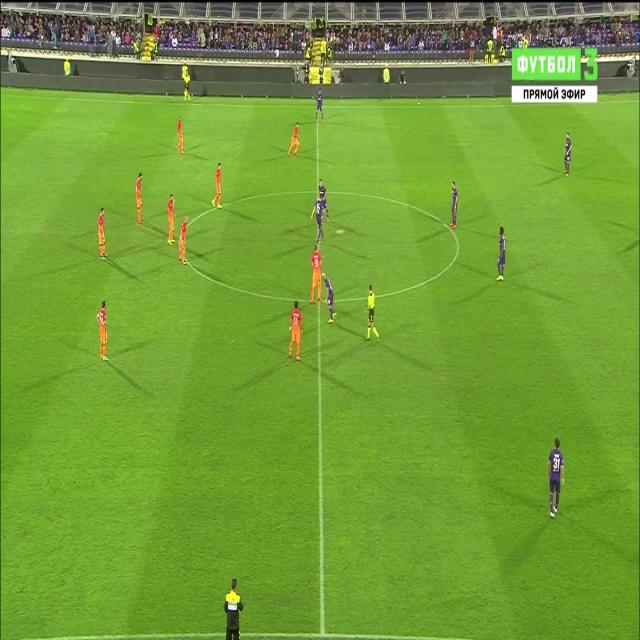Ball: (334, 225, 345, 238)
Player: (544, 436, 566, 522), (285, 299, 304, 364), (308, 242, 324, 309), (321, 270, 339, 327), (493, 221, 508, 285), (96, 297, 109, 367), (176, 215, 191, 266), (165, 193, 178, 248), (211, 162, 225, 212), (310, 198, 325, 241), (448, 180, 459, 233), (134, 170, 144, 227), (288, 119, 302, 158), (562, 129, 573, 178), (318, 176, 330, 220), (96, 206, 105, 264), (314, 89, 326, 124), (176, 114, 184, 158)
Referee: (363, 283, 382, 345), (181, 70, 191, 102)
